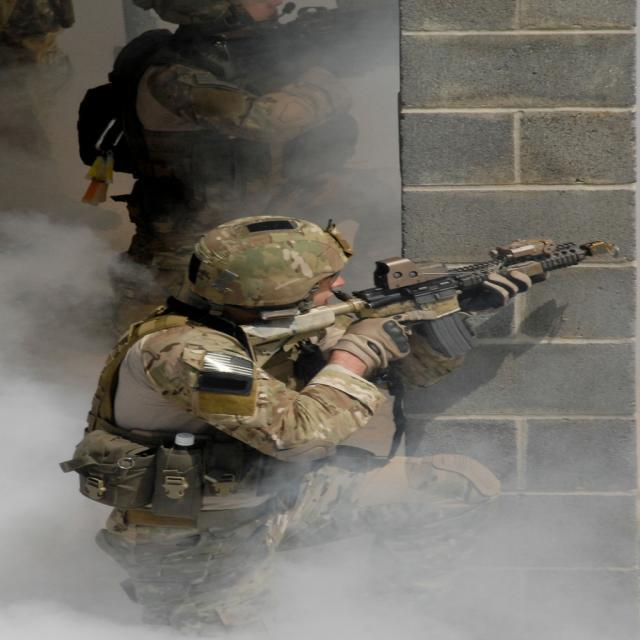weapon: (228, 237, 618, 357)
